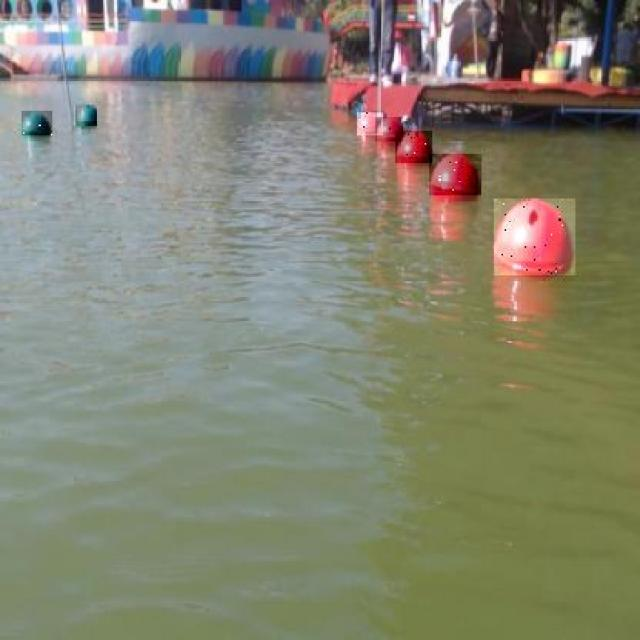green_ball: (23, 111, 50, 144), (75, 102, 95, 130)
red_ball: (493, 195, 574, 278), (432, 158, 476, 195), (394, 130, 428, 164), (358, 112, 382, 145), (378, 123, 403, 150)
